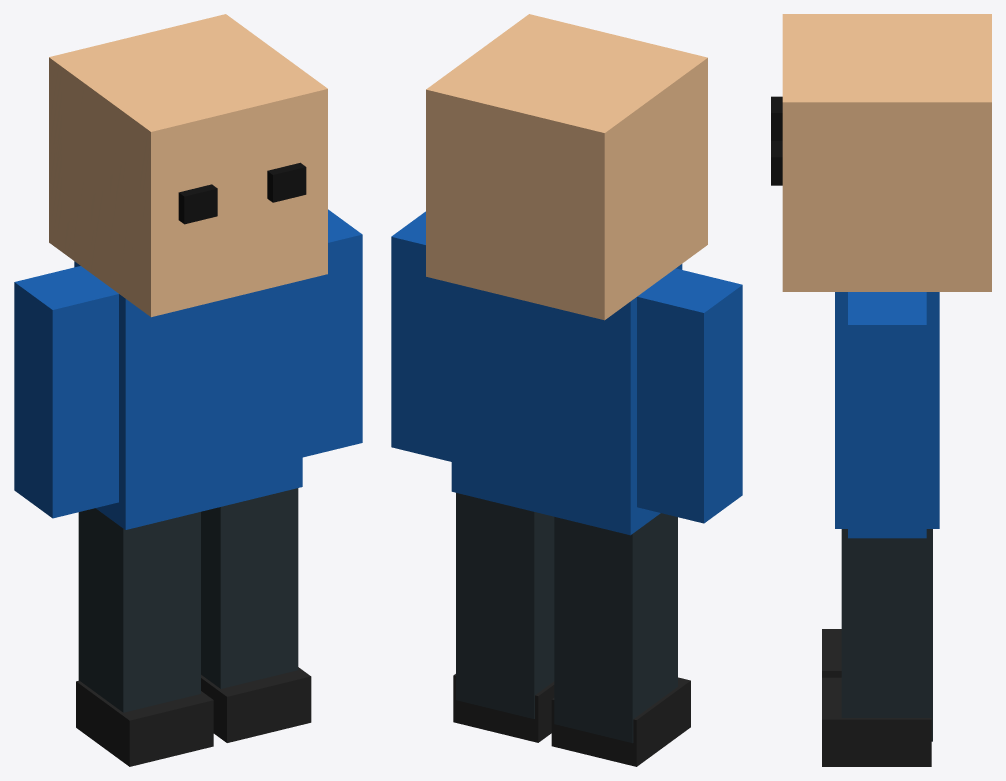
Rendered from player.obj.
The picture shows the model from 3 angles, left to right: view 1: azimuth 30°, elevation 25°; view 2: azimuth 150°, elevation 25°; view 3: azimuth 270°, elevation 25°; orthographic projection. The views are drawn at different scales.
Bounding box in the file's own units: 1.4 × 2.8 × 0.845.
